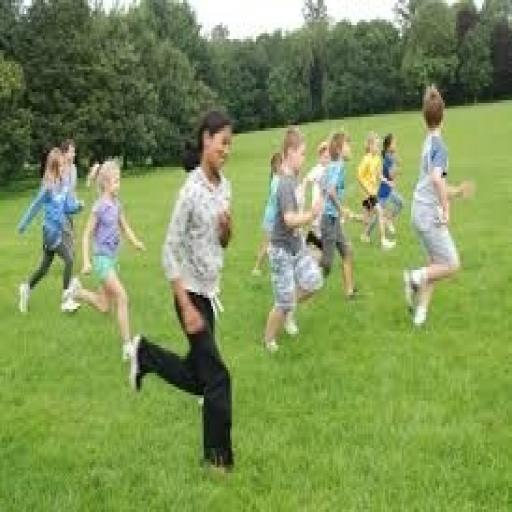running: (127, 106, 239, 476), (400, 81, 478, 331), (64, 156, 148, 364), (258, 123, 327, 356), (15, 142, 86, 317)
